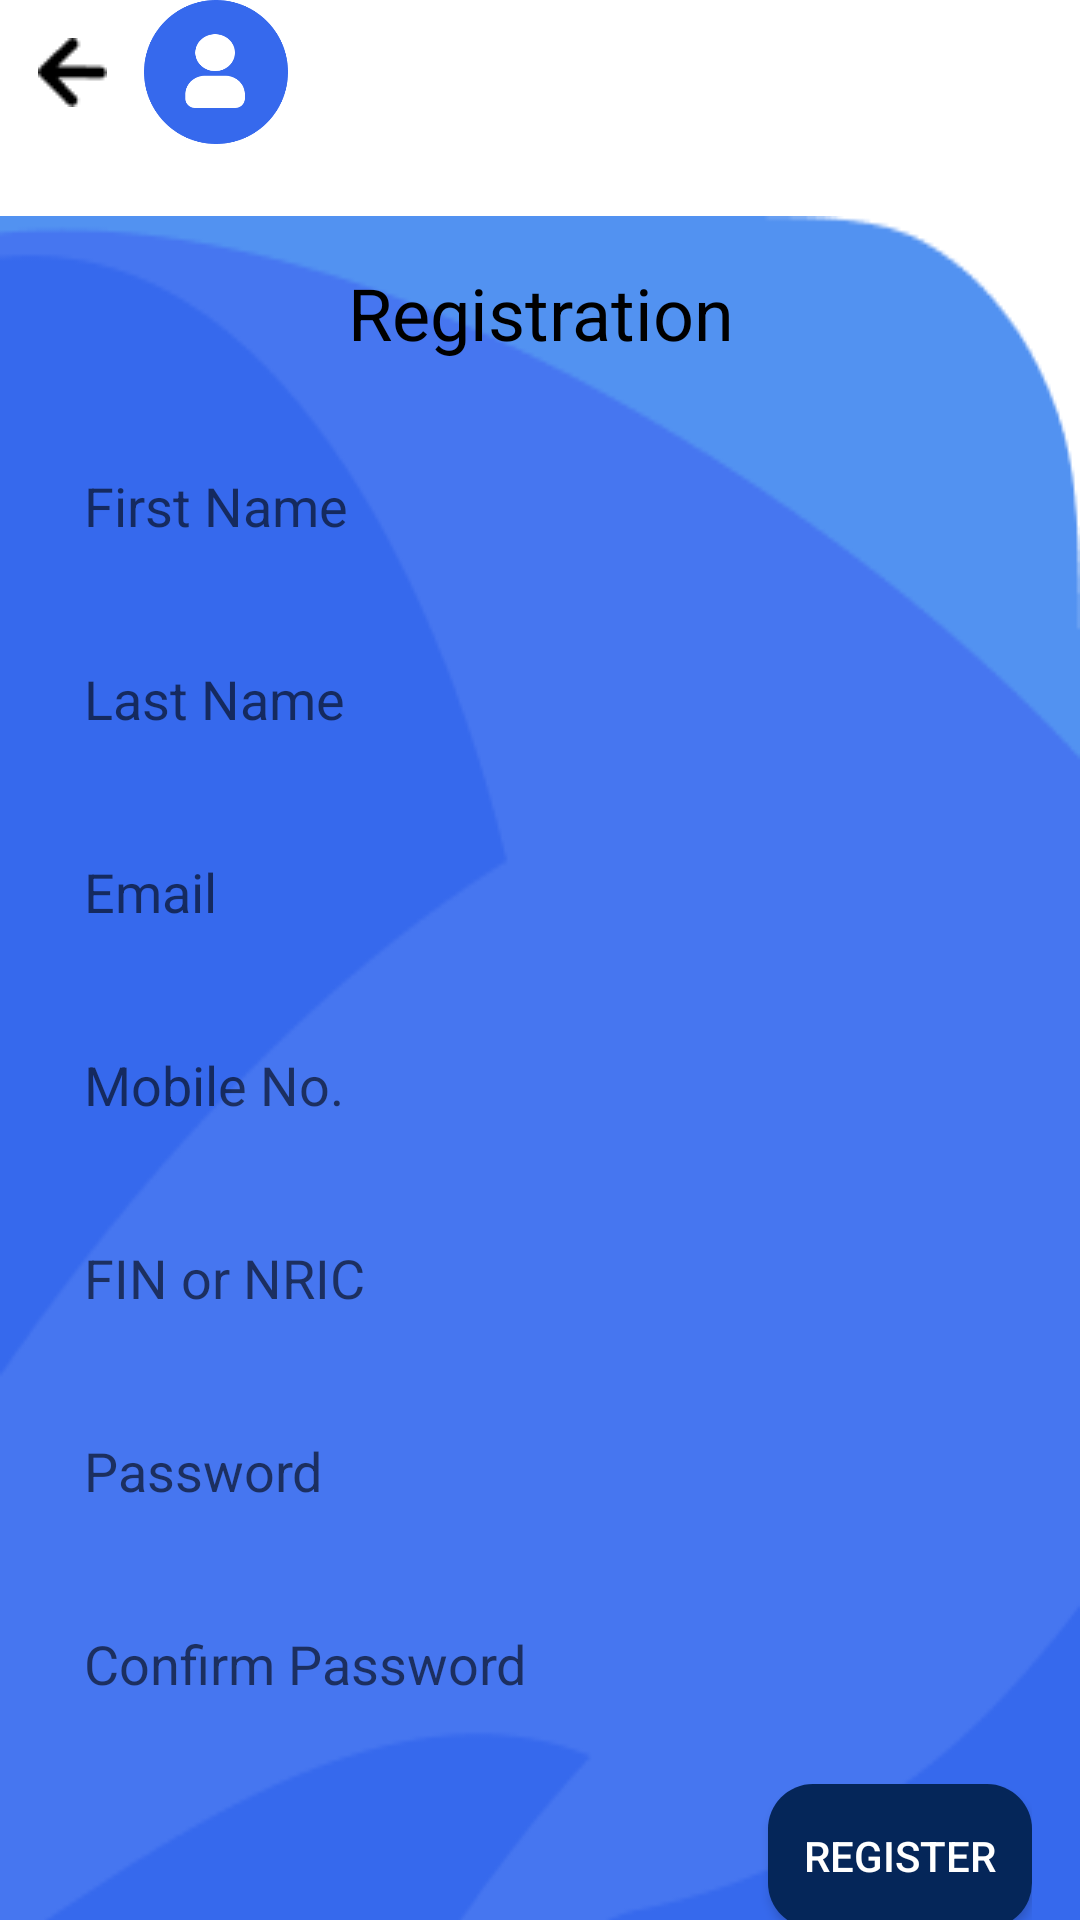

Named icons in this screenshot (1080 x 1920) and their centers, (x,y):
back arrow: (72,72)
